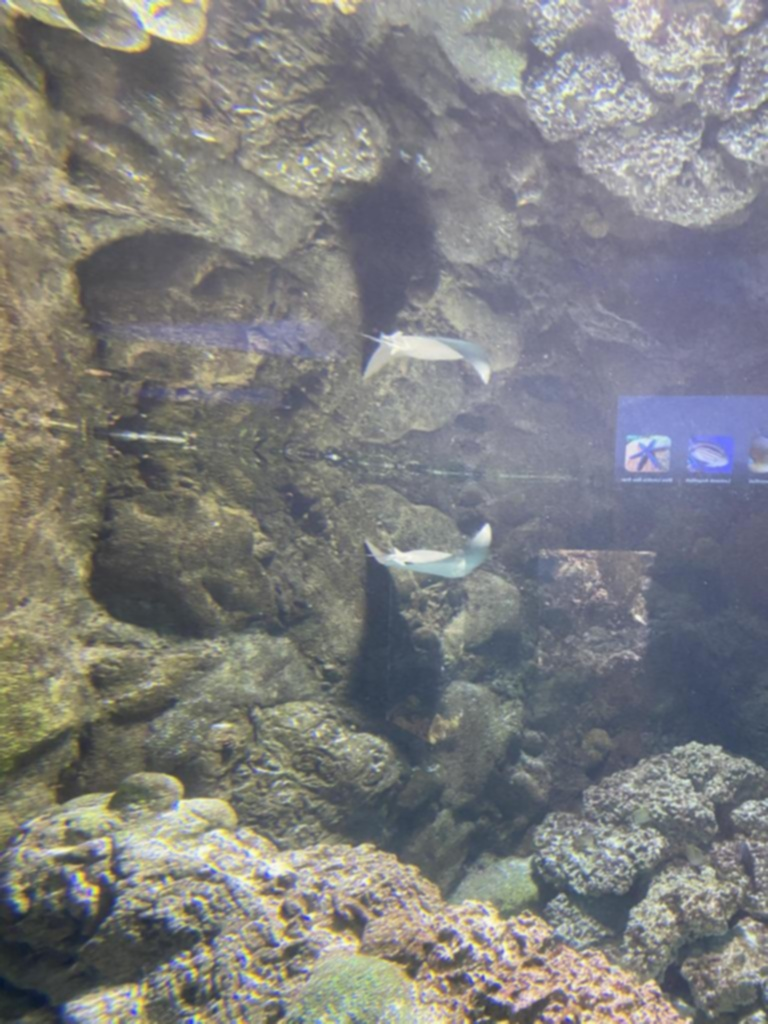stingray: (364, 522, 491, 576), (362, 333, 490, 385)
